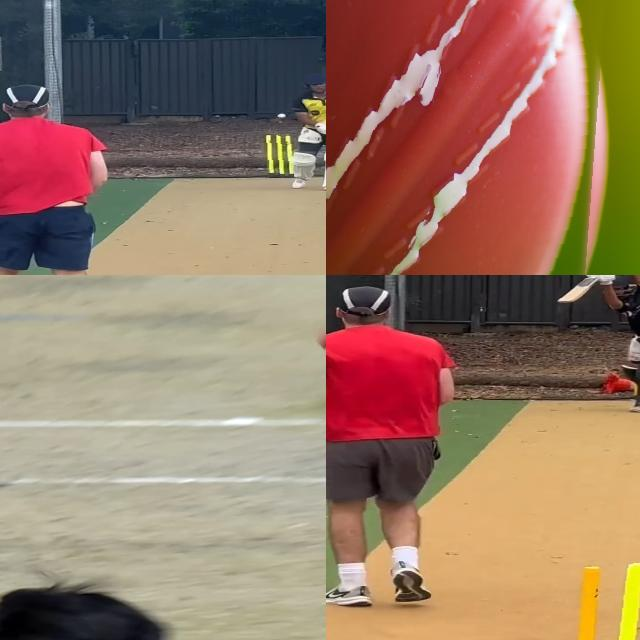Cricket ball: (326, 0, 617, 275), (276, 114, 288, 120)
Stumps: (565, 563, 640, 640), (264, 134, 294, 178)
